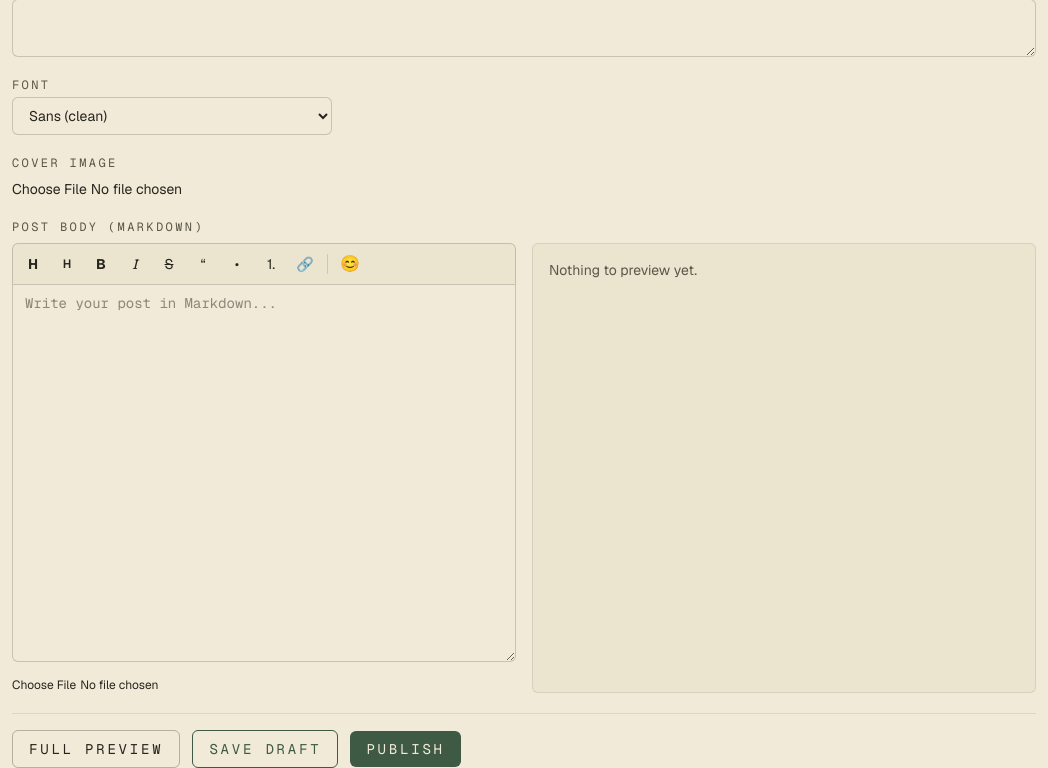
Scenario: PostEditor › adds a heading from the toolbar
(page scrolled)
Type "Chapter one" into the text box named "post body" at [264, 473], box [12,284,516,662]
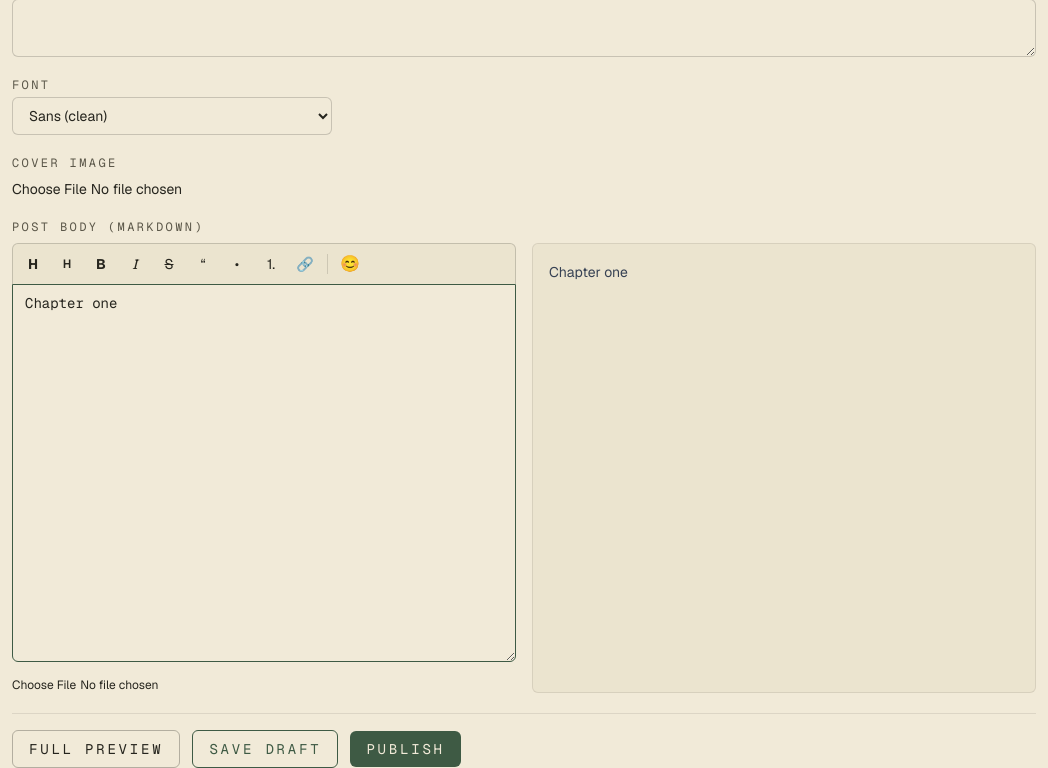
Click the button named "heading" at [33, 264], box [17,248,49,280]
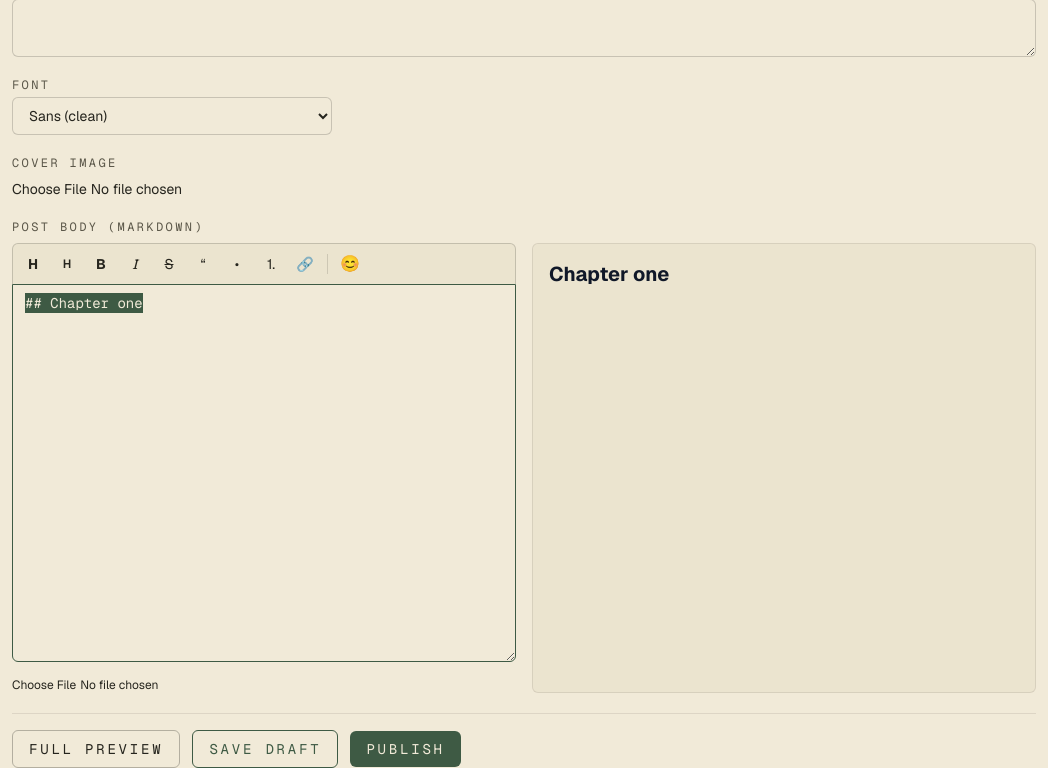
Now the text box named "post body" holds "## Chapter one", box [12,284,516,662]
